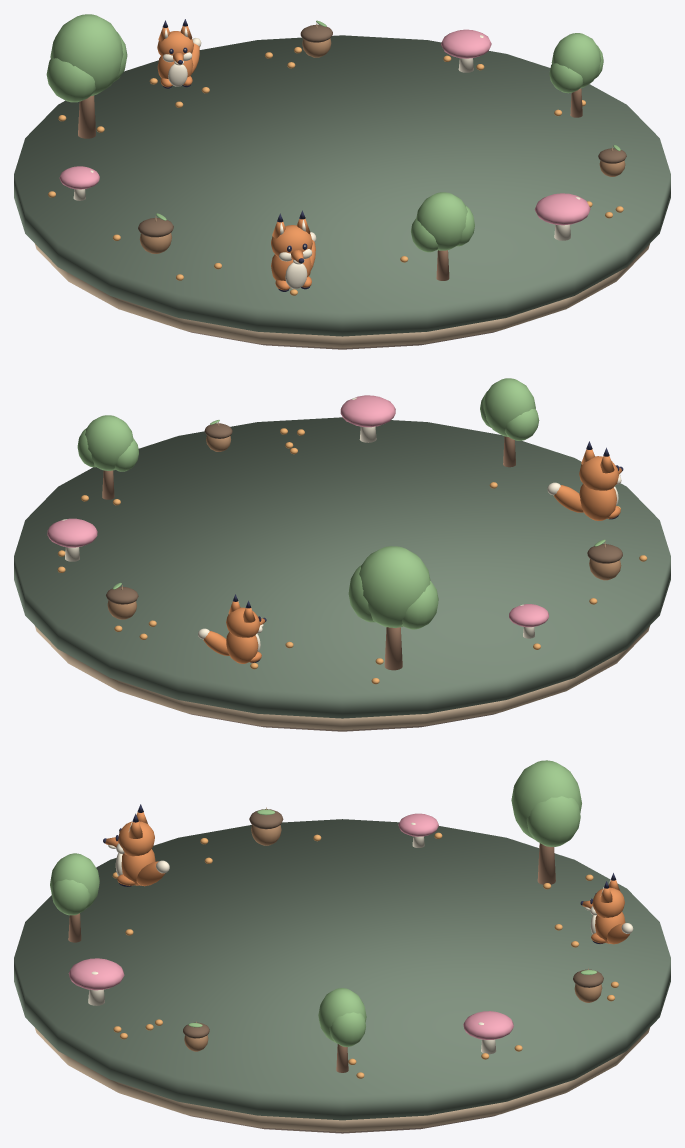
File: world.glb
3 renders of one model, top to bottom at view 1: azimuth 30°, elevation 25°; view 2: azimuth 150°, elevation 25°; view 3: azimuth 270°, elevation 25°, orthographic.
Parts seen in each view (by area): view 1: Cone, Cone.001, tree.002, tree.003, tree.001, fox.002, fox.001, mushroom.003, mushroom.001, acorn.002, acorn.001, mushroom.002 (+2 smaller); view 2: Cone, Cone.001, tree.002, tree.003, fox.002, tree.001, fox.001, mushroom.003, mushroom.001, acorn.002, acorn.001, mushroom.002 (+2 smaller); view 3: Cone, Cone.001, tree.002, fox.002, tree.003, tree.001, fox.001, mushroom.003, mushroom.001, acorn.002, mushroom.002, acorn.001 (+2 smaller).
Part boxes in pixels (bbox=[...]): Cone: bbox=[14, 35, 670, 336]; Cone.001: bbox=[34, 243, 650, 348]; tree.002: bbox=[46, 14, 127, 138]; tree.003: bbox=[411, 192, 474, 280]; tree.001: bbox=[549, 33, 603, 117]; fox.002: bbox=[271, 210, 316, 291]; fox.001: bbox=[157, 19, 201, 88]; mushroom.003: bbox=[534, 193, 590, 240]; mushroom.001: bbox=[441, 29, 491, 72]; acorn.002: bbox=[138, 213, 173, 253]; acorn.001: bbox=[300, 20, 332, 57]; mushroom.002: bbox=[59, 166, 99, 200]; Cone: bbox=[14, 417, 670, 718]; Cone.001: bbox=[35, 626, 649, 730]; tree.002: bbox=[348, 546, 438, 670]; tree.003: bbox=[480, 378, 539, 467]; fox.002: bbox=[547, 441, 623, 520]; tree.001: bbox=[77, 415, 138, 499]; fox.001: bbox=[198, 594, 266, 663]; mushroom.003: bbox=[340, 395, 395, 442]; mushroom.001: bbox=[47, 518, 97, 561]; acorn.002: bbox=[587, 539, 622, 580]; acorn.001: bbox=[106, 582, 138, 619]; mushroom.002: bbox=[509, 604, 548, 638]; Cone: bbox=[14, 819, 670, 1120]; Cone.001: bbox=[35, 1028, 649, 1132]; tree.002: bbox=[511, 760, 581, 884]; fox.002: bbox=[103, 804, 169, 886]; tree.003: bbox=[50, 853, 99, 942]; tree.001: bbox=[318, 988, 366, 1072]; fox.001: bbox=[580, 873, 633, 944]; mushroom.003: bbox=[68, 958, 124, 1005]; mushroom.001: bbox=[463, 1011, 513, 1054]; acorn.002: bbox=[249, 807, 283, 845]; mushroom.002: bbox=[398, 813, 438, 847]; acorn.001: bbox=[573, 968, 603, 1002].
Size of the model in its own units: 9.6 by 2.7 by 9.6.
